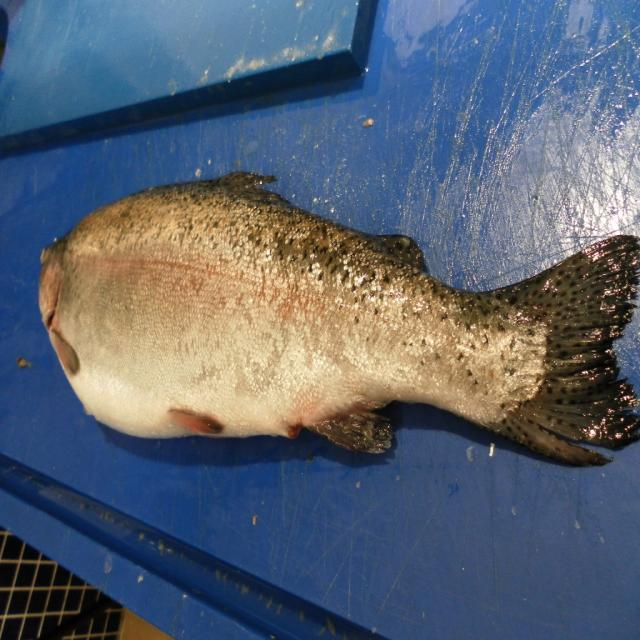Trout-alabalik-: (39, 172, 640, 465)
